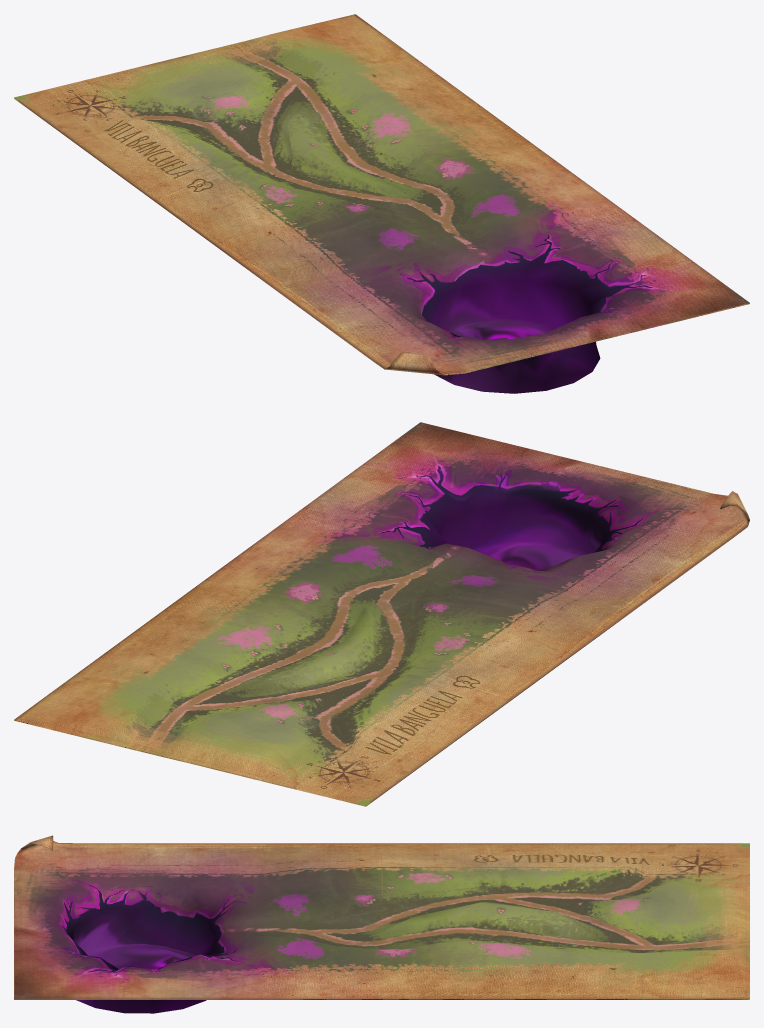
The model's file is SM_Fase_D.fbx.
3 renders of one model, top to bottom at view 1: azimuth 30°, elevation 25°; view 2: azimuth 150°, elevation 25°; view 3: azimuth 270°, elevation 25°, orthographic. The views are drawn at different scales.
Parts seen in each view (by area): view 1: SM_Fase_D; view 2: SM_Fase_D; view 3: SM_Fase_D.
Boxes of the visible parts, x1,y1,x2,y2 form: SM_Fase_D: [14, 14, 749, 393]; SM_Fase_D: [14, 422, 749, 806]; SM_Fase_D: [14, 835, 749, 1013].
Size of the model in its own units: 26134 by 6075 by 52261.
